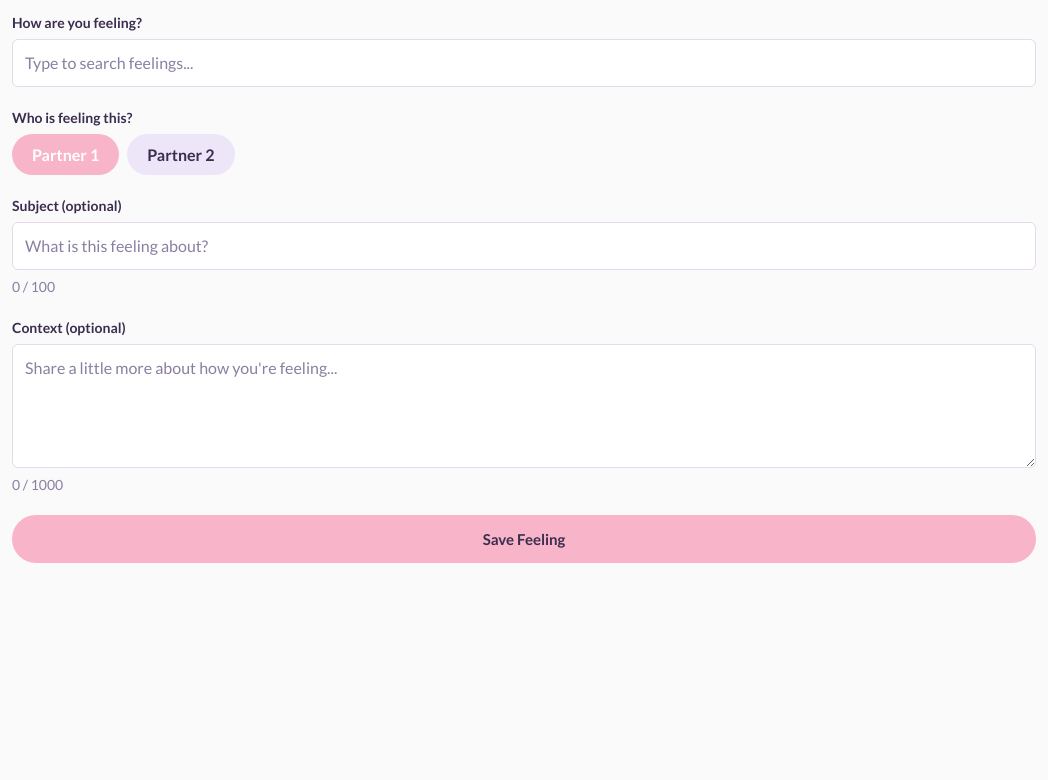
Scenario: FeelingForm › selecting a feeling from the dropdown populates the input
Type "hap" into the dropdown.
click(524, 63); type("hap")  # box top-left (12, 39), bottom-right (1036, 87)
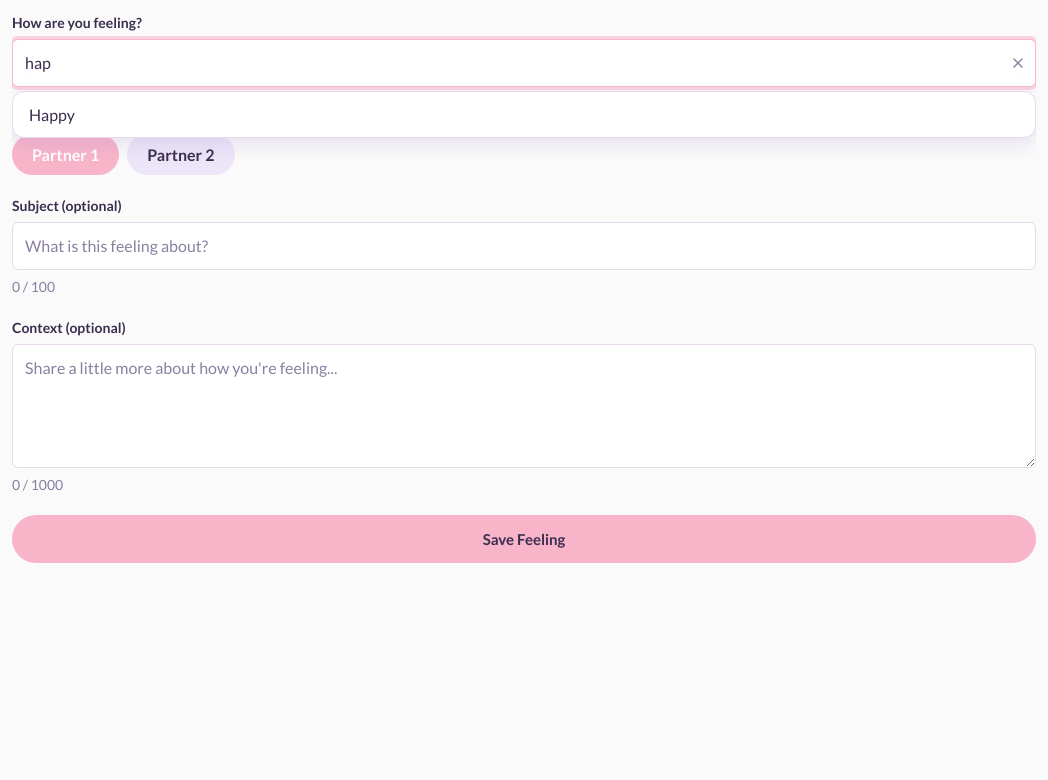
Click the option "Happy".
click(52, 114)  # box top-left (29, 105), bottom-right (75, 124)
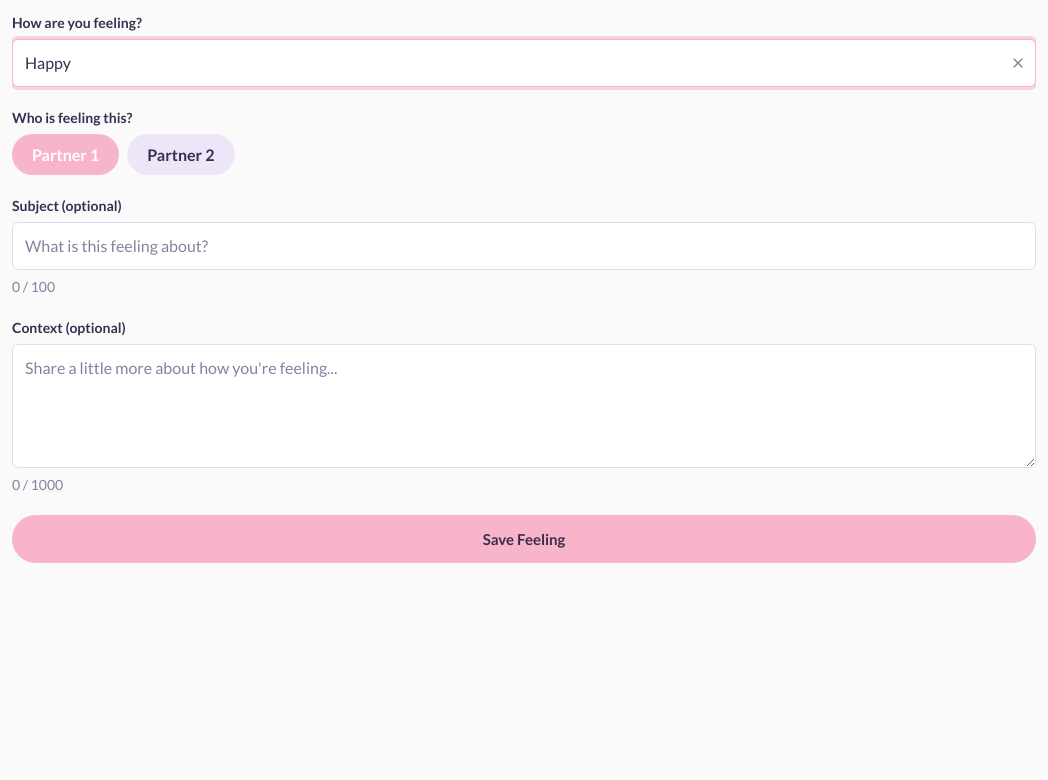
Check: the dropdown holds "Happy", box top-left (12, 39), bottom-right (1036, 87)
Check: the list is gone
